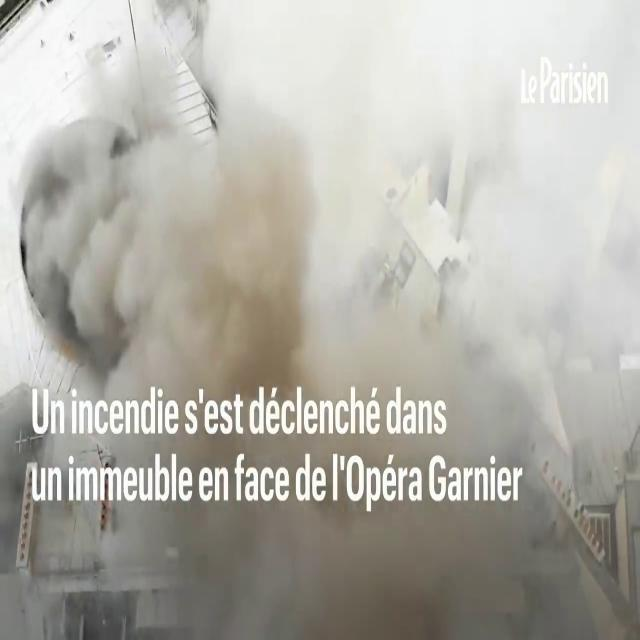Smoke: (17, 0, 346, 418)
